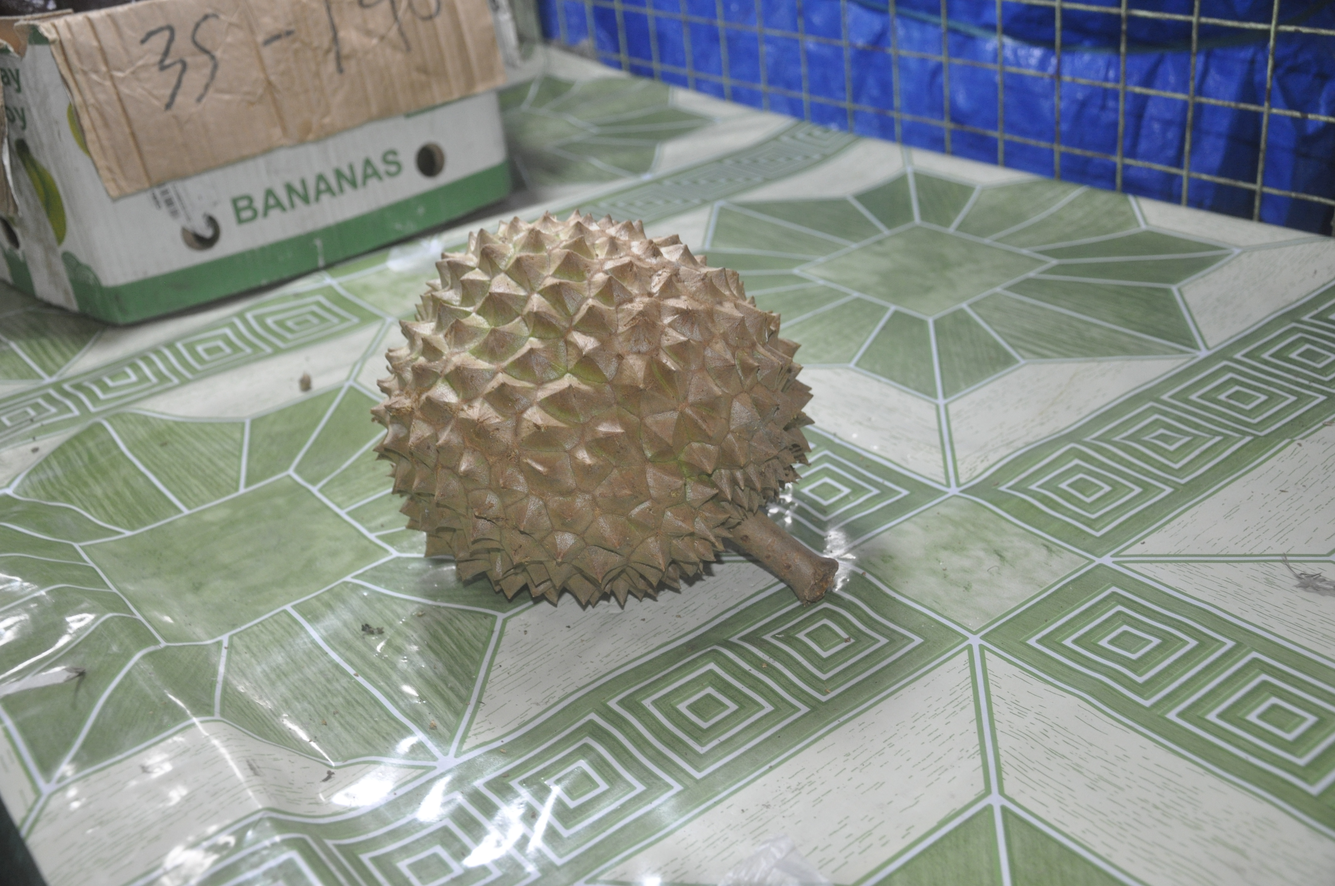mature: (372, 212, 838, 607)
